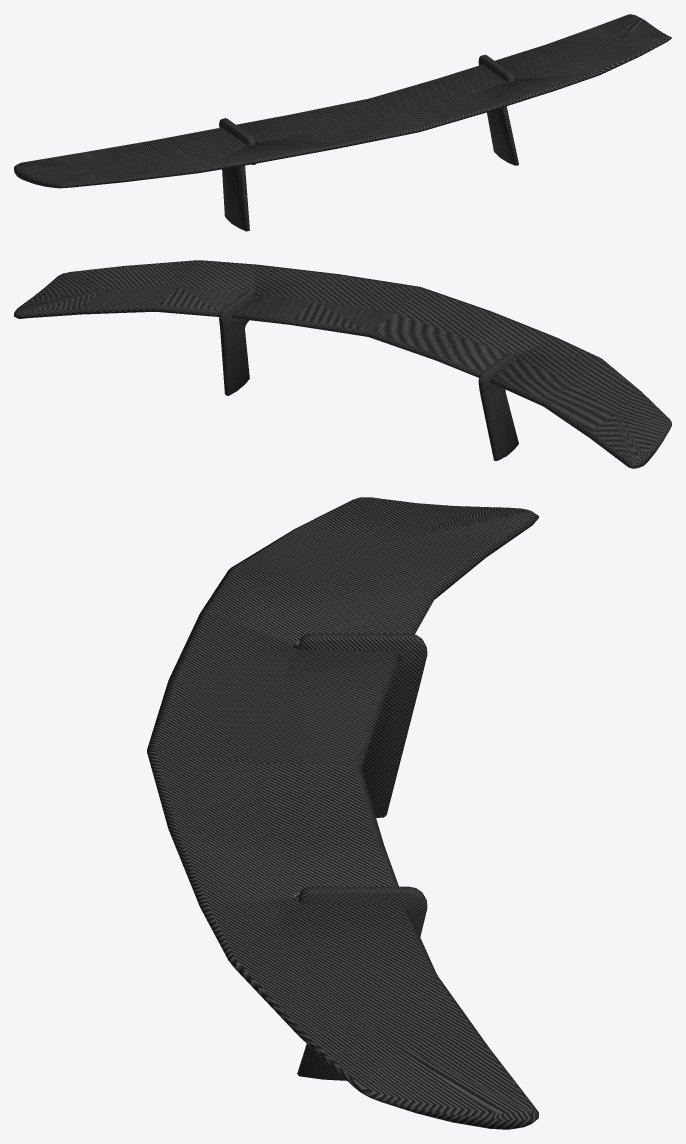
The model's file is spoiler4.glb.
3 renders of one model, top to bottom at view 1: azimuth 30°, elevation 25°; view 2: azimuth 150°, elevation 25°; view 3: azimuth 270°, elevation 25°, orthographic. The views are drawn at different scales.
Visible parts, largest first — view 1: Spoiler; view 2: Spoiler; view 3: Spoiler.
Boxes of the visible parts, x1=… form: Spoiler: x1=14, y1=14, x2=671, y2=231; Spoiler: x1=14, y1=260, x2=671, y2=468; Spoiler: x1=147, y1=497, x2=538, y2=1129.
Bounding box in the file's own units: 1.71 × 0.2582 × 0.4646.
Materials: 1 (1 with a texture image).
